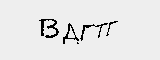В: (37, 17, 59, 41)
Г: (103, 17, 120, 40), (79, 20, 94, 46)
Д: (61, 23, 81, 46)
Т: (93, 22, 107, 41)
